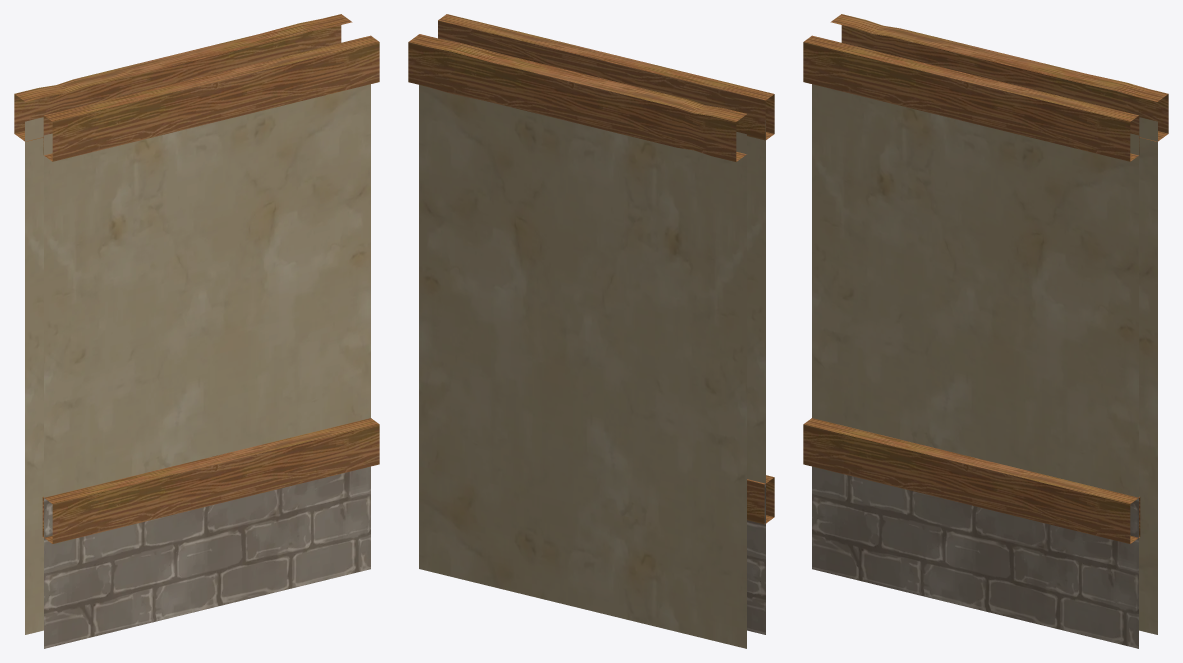
File: wall_plaster_straight_base.glb
3 renders of one model, left to right at view 1: azimuth 30°, elevation 25°; view 2: azimuth 150°, elevation 25°; view 3: azimuth 330°, elevation 25°, orthographic.
Size of the model in its own units: 2 by 3.12 by 0.4066.
3 materials, 3 textured.
